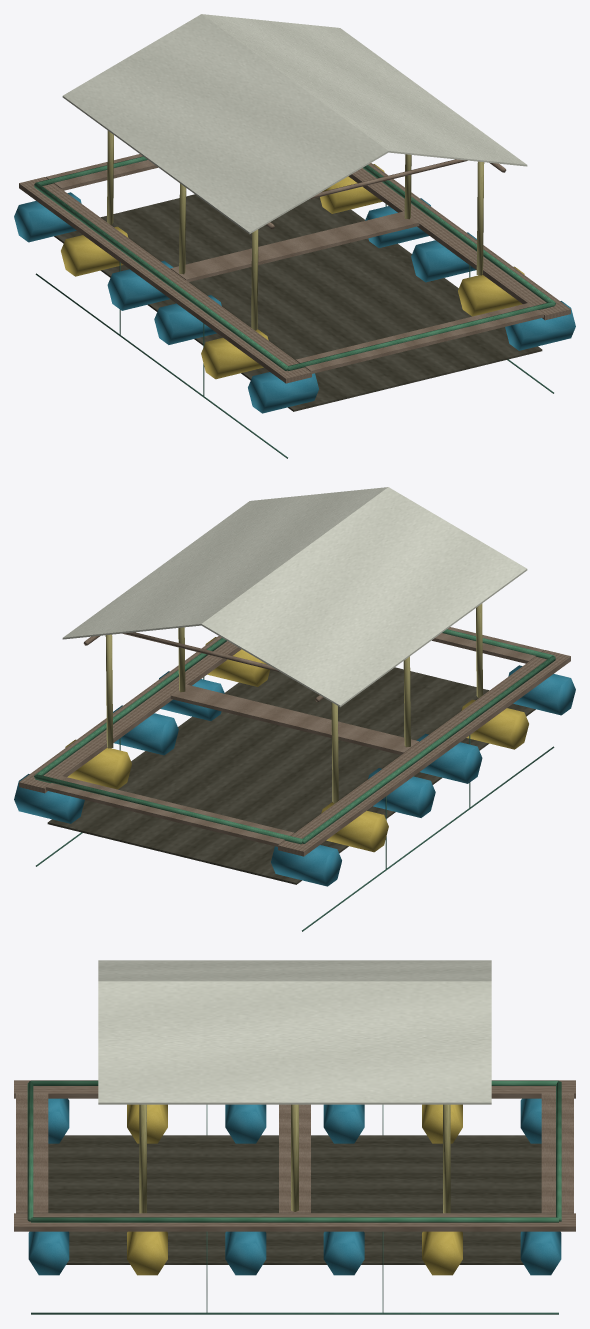
The model's file is bung-raft-2-white-mid.glb.
The picture shows the model from 3 angles, top to bottom: view 1: azimuth 30°, elevation 25°; view 2: azimuth 150°, elevation 25°; view 3: azimuth 270°, elevation 25°; orthographic projection. The views are drawn at different scales.
Visible parts, largest first — view 1: bung-raft-2-white-mid; view 2: bung-raft-2-white-mid; view 3: bung-raft-2-white-mid.
Boxes of the visible parts, bbox=[...] form: bung-raft-2-white-mid: bbox=[14, 14, 575, 458]; bung-raft-2-white-mid: bbox=[14, 487, 575, 931]; bung-raft-2-white-mid: bbox=[14, 960, 575, 1314].
Size of the model in its own units: 5.34 by 4.17 by 8.
Materials: 1 (1 with a texture image).
